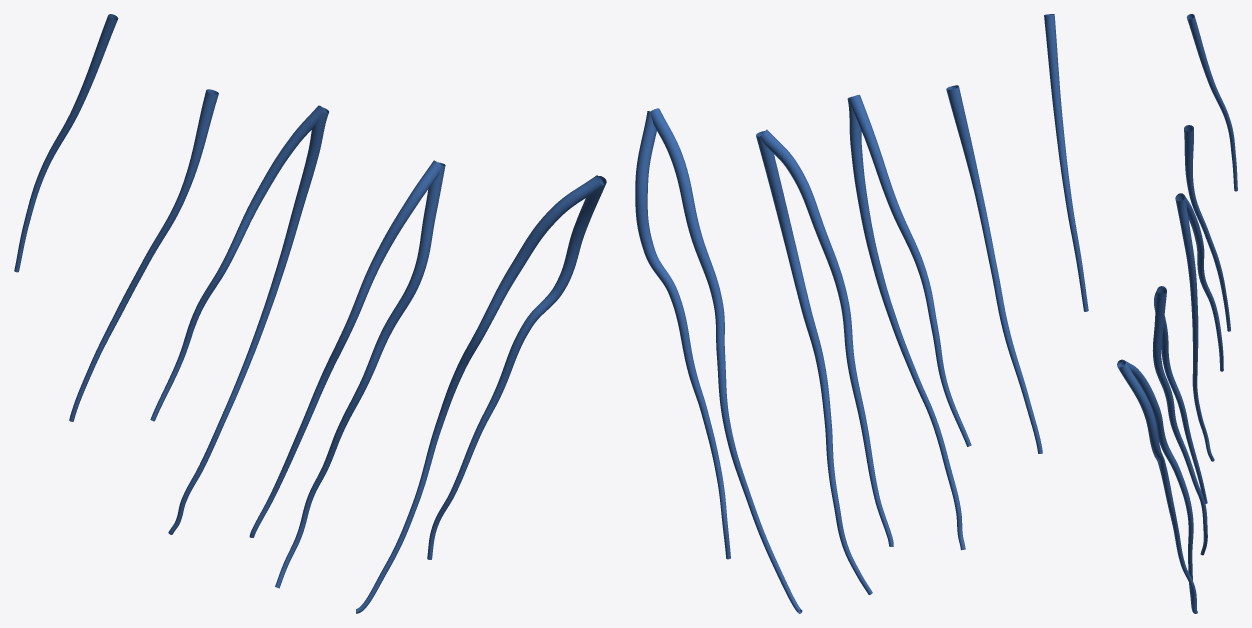
3 renders of one model, left to right at view 1: azimuth 30°, elevation 25°; view 2: azimuth 150°, elevation 25°; view 3: azimuth 270°, elevation 25°, orthographic. The views are drawn at different scales.
Visible parts, largest first — view 1: 右侧趾背静脉; view 2: 右侧趾背静脉; view 3: 右侧趾背静脉.
Boxes of the visible parts, x1,y1,x2,y2 form: 右侧趾背静脉: (14, 14, 606, 613); 右侧趾背静脉: (635, 14, 1088, 613); 右侧趾背静脉: (1117, 14, 1237, 613).
Bounding box in the file's own units: 0.0928 × 0.1135 × 0.0246.
